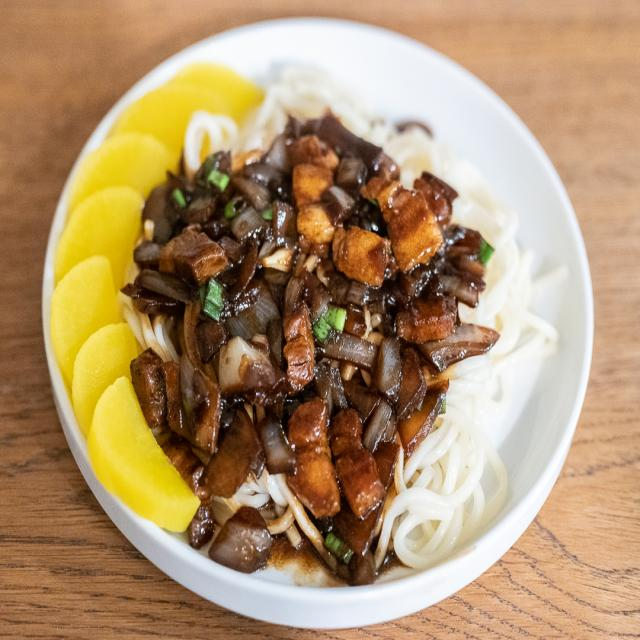carb: (185, 67, 559, 569), (224, 475, 330, 565)
meat: (126, 113, 500, 585)
vegetable: (52, 64, 262, 530), (312, 307, 347, 344), (326, 532, 354, 565), (202, 282, 225, 322), (480, 240, 495, 266), (211, 172, 230, 191), (226, 201, 241, 219), (174, 190, 187, 207), (264, 209, 272, 218)
